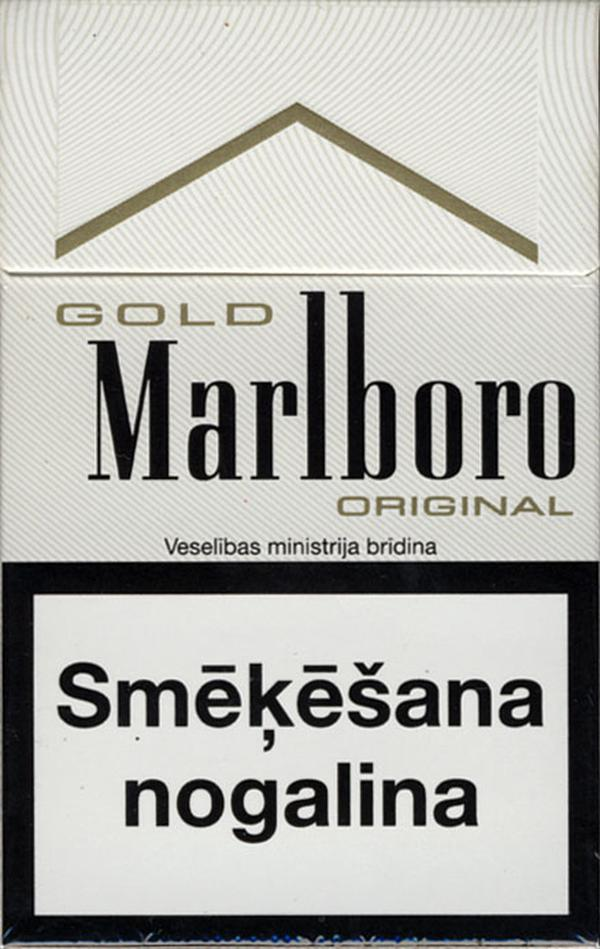marlboro_gold: (3, 7, 600, 940)
